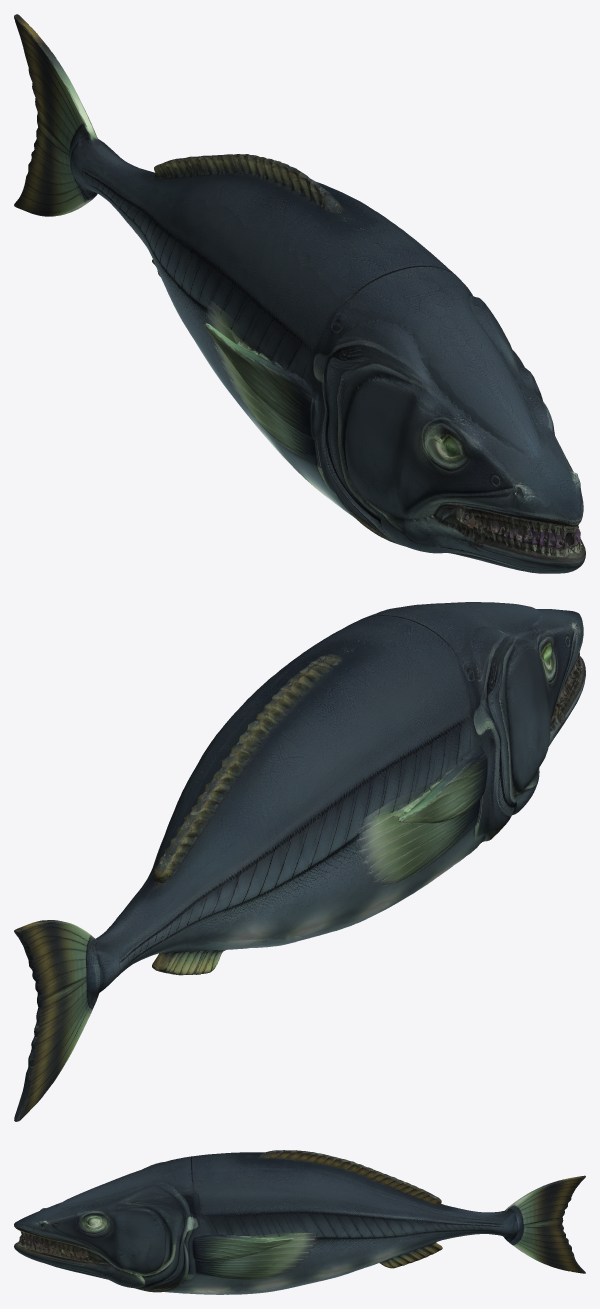
Rendered from fish_fathom_halibut.glb.
3 views of the same model, one above another, from view 1: azimuth 30°, elevation 25°; view 2: azimuth 150°, elevation 25°; view 3: azimuth 270°, elevation 25° (orthographic). The views are drawn at different scales.
Size of the model in its own units: 0.3845 by 0.5145 by 1.9.
Materials: 1 (1 with a texture image).
